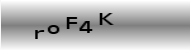4: (78, 19, 94, 35)
F: (66, 15, 78, 30)
K: (98, 11, 115, 28)
o: (46, 24, 61, 36)
r: (33, 28, 45, 40)
